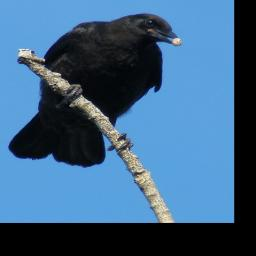Crow: (7, 12, 184, 169)
